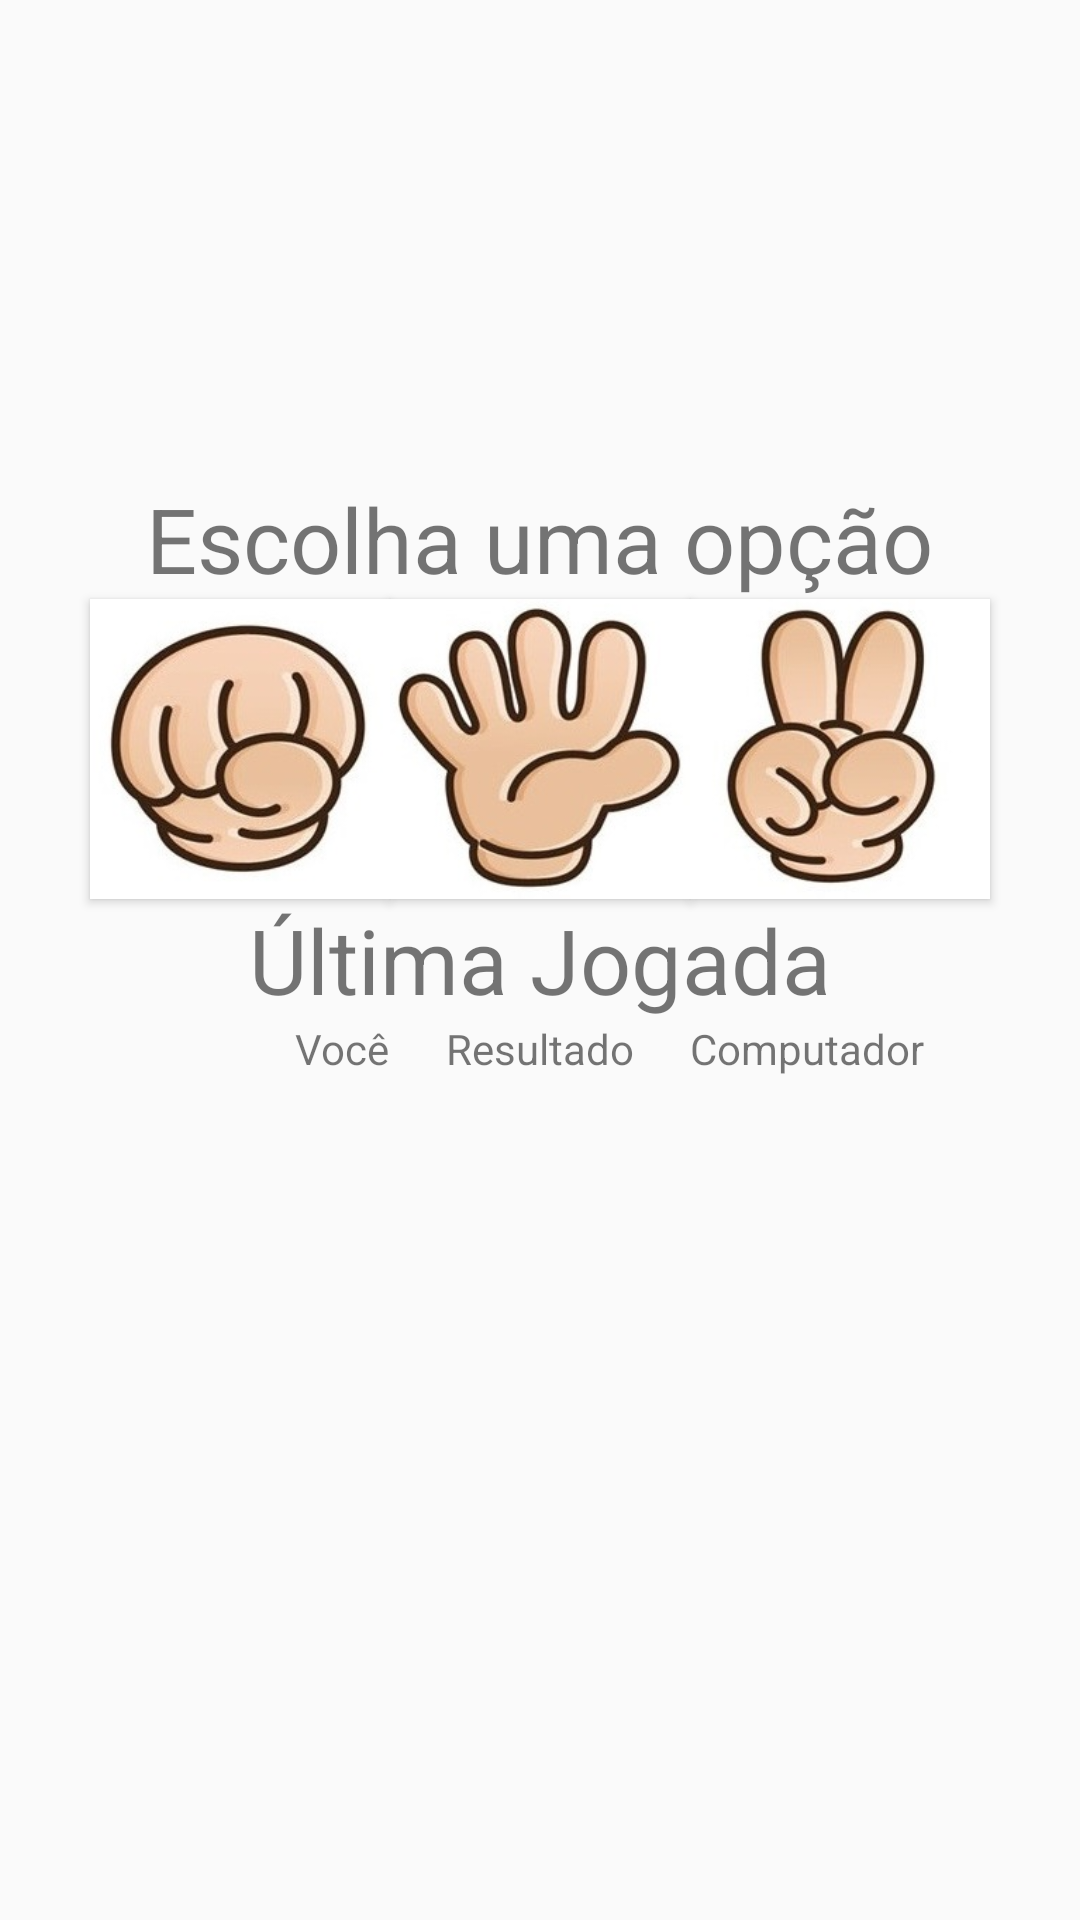

Where to tap for icons on this 1080*1920 app screen, as (x=x, y=y):
papel: (x=539, y=748)
pedra: (x=238, y=748)
tesoura: (x=831, y=746)
